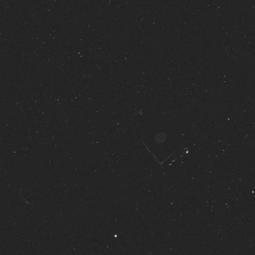smart_1: (129, 110, 199, 196)
